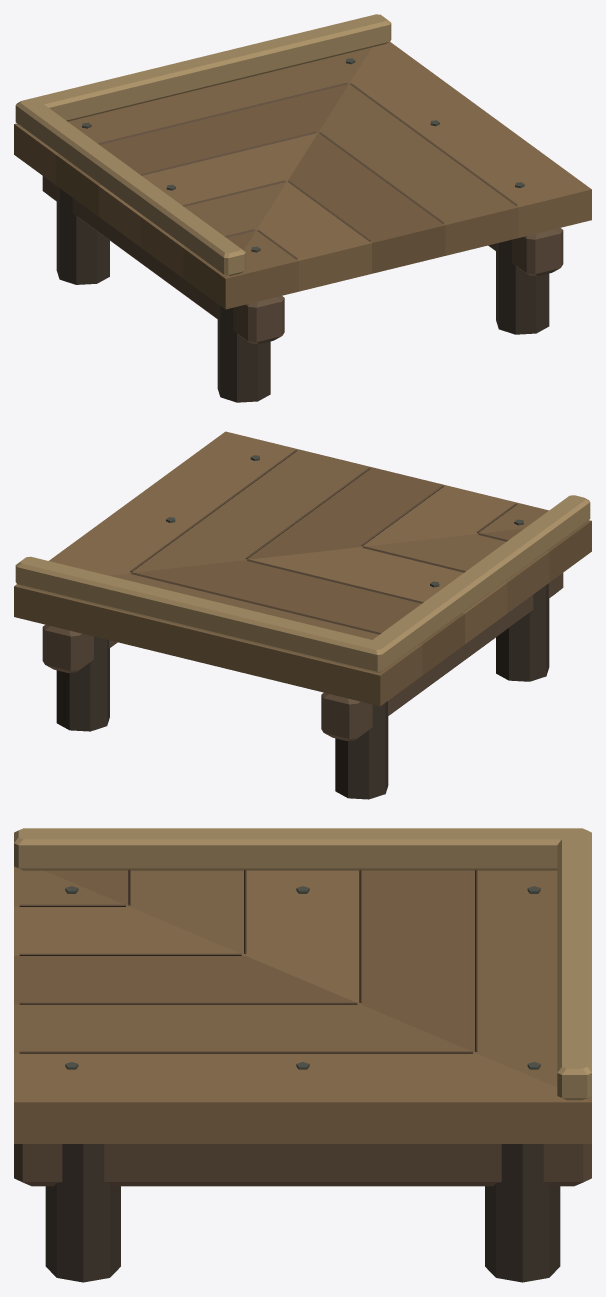
The model's file is boardwalk_turn.glb.
The picture shows the model from 3 angles, top to bottom: view 1: azimuth 30°, elevation 25°; view 2: azimuth 150°, elevation 25°; view 3: azimuth 270°, elevation 25°; orthographic projection. The views are drawn at different scales.
Visible parts, largest first — view 1: geometry; view 2: geometry; view 3: geometry.
Part boxes in pixels (bbox=[...]): geometry: bbox=[14, 14, 591, 402]; geometry: bbox=[14, 431, 591, 799]; geometry: bbox=[14, 828, 591, 1282].
Bounding box in the file's own units: 1 × 0.43 × 1.
